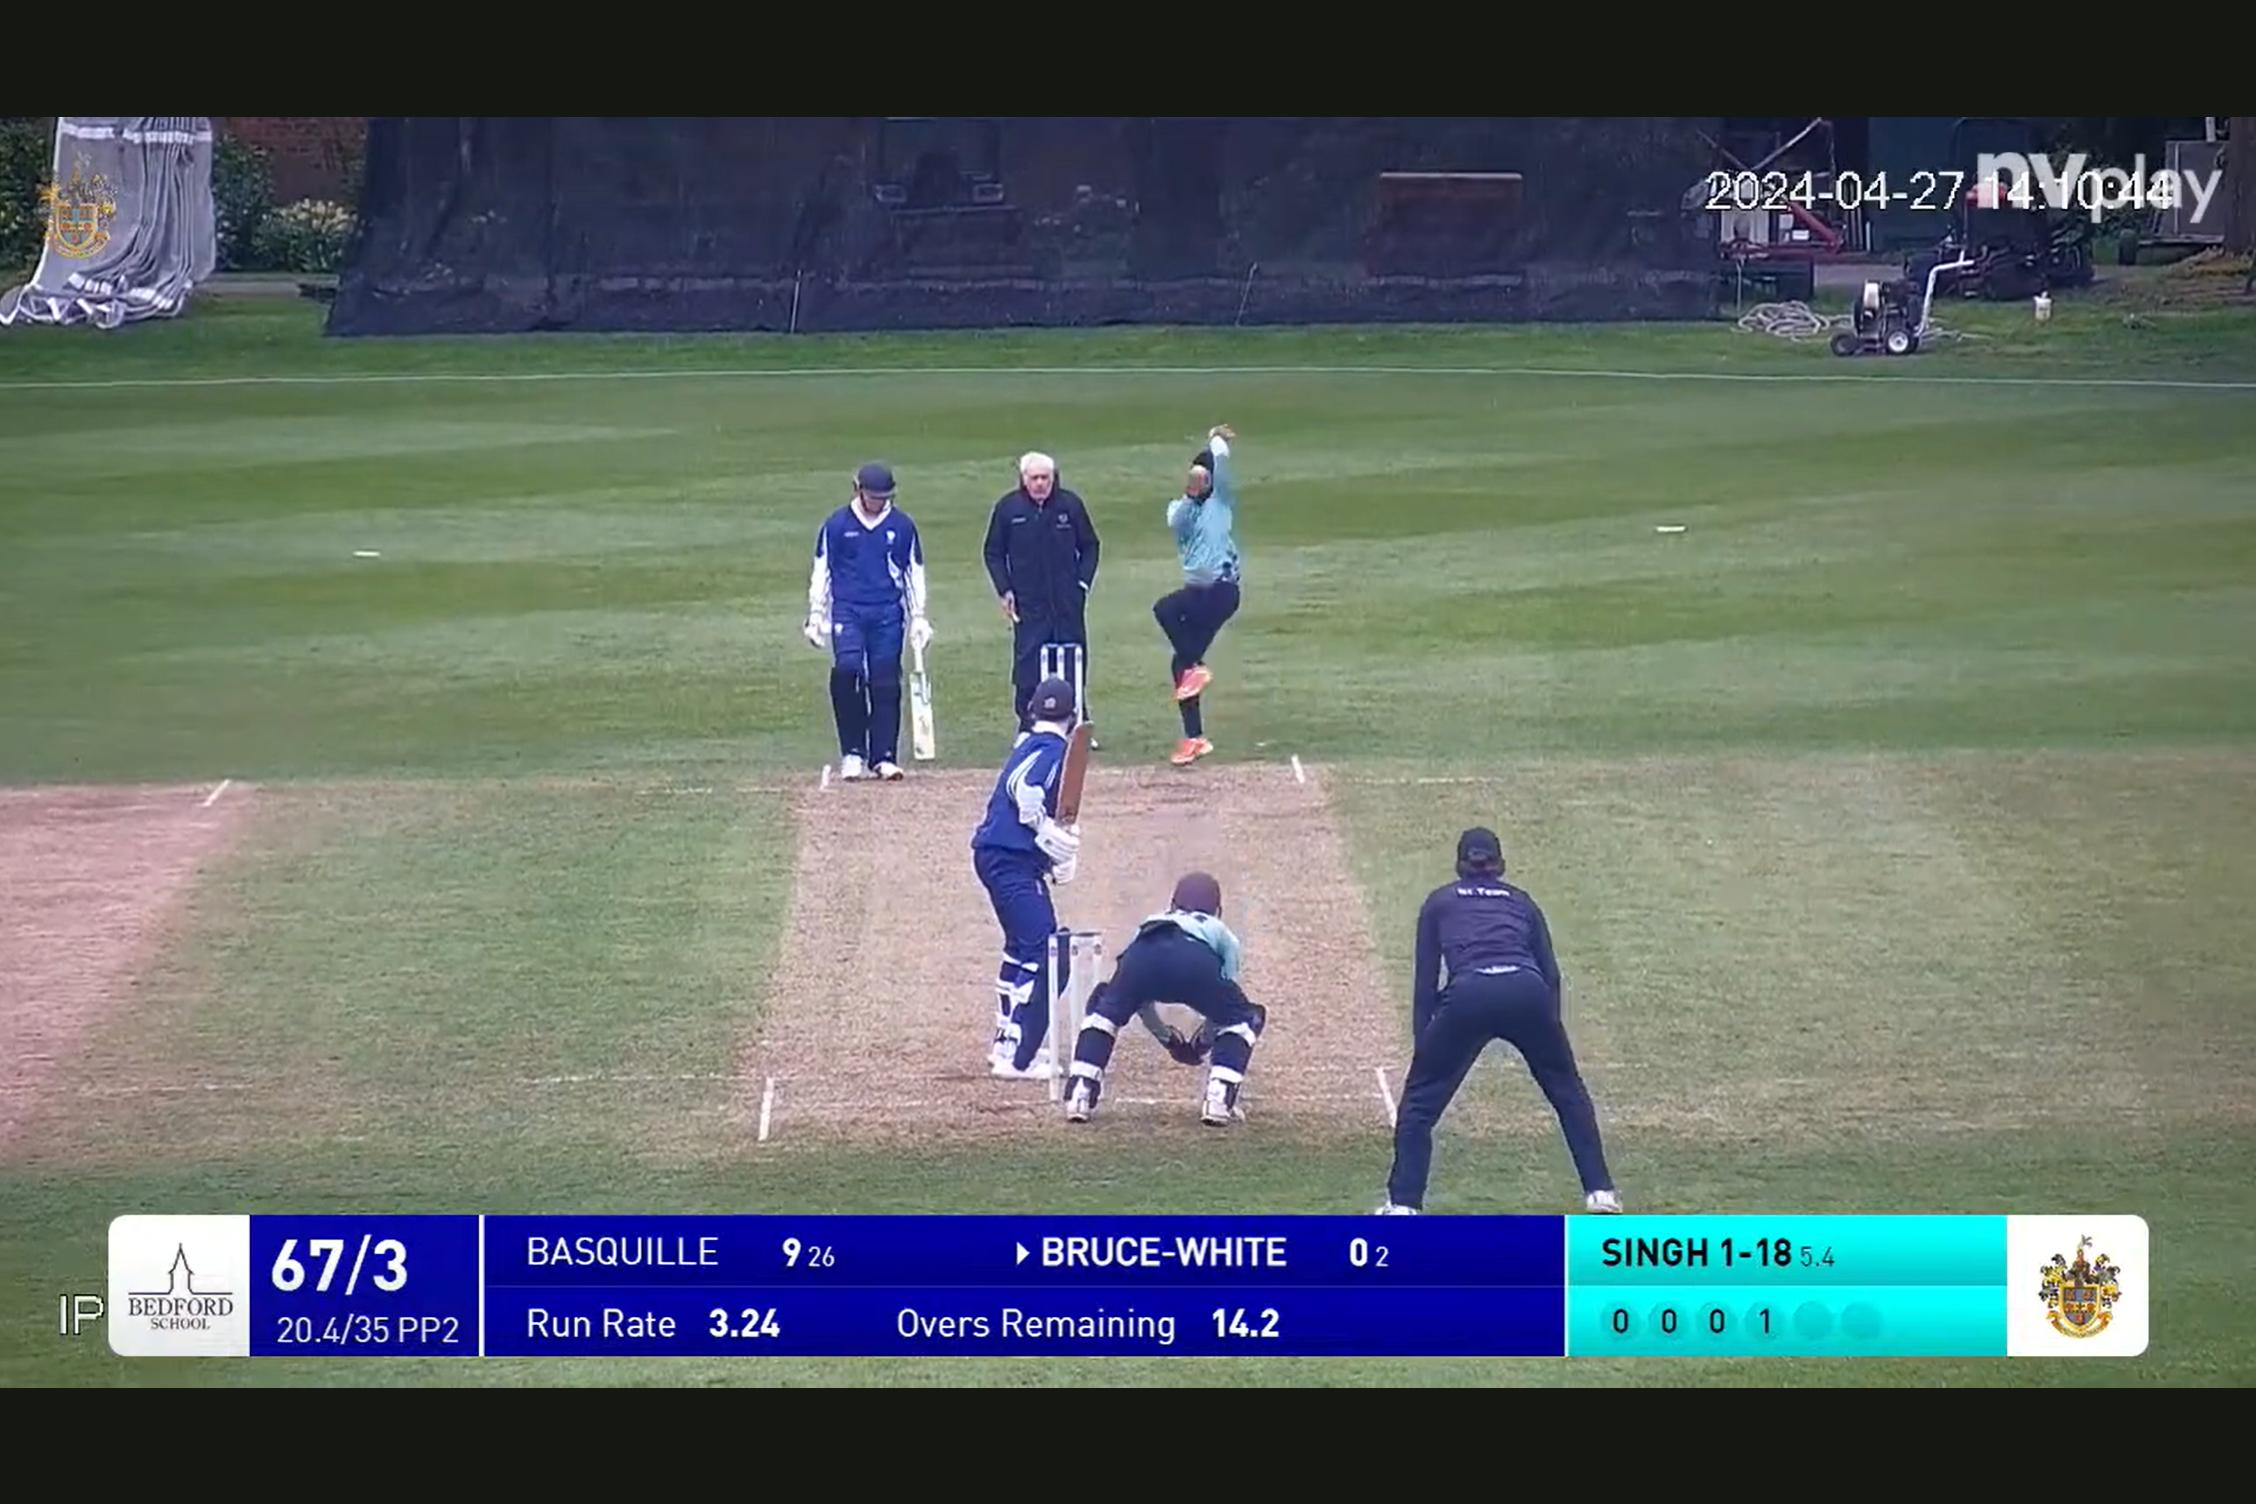batsman: (969, 673, 1108, 1093)
bowler running in: (1146, 408, 1281, 787)
non striker: (775, 433, 943, 786)
umpire: (969, 436, 1111, 666)
wicket keeper: (1125, 833, 1286, 1143)
